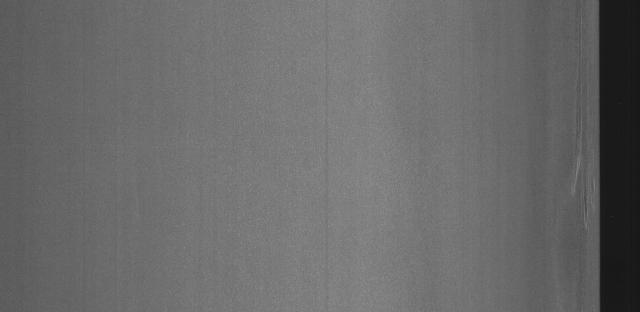silk_spot: (559, 12, 597, 308)
